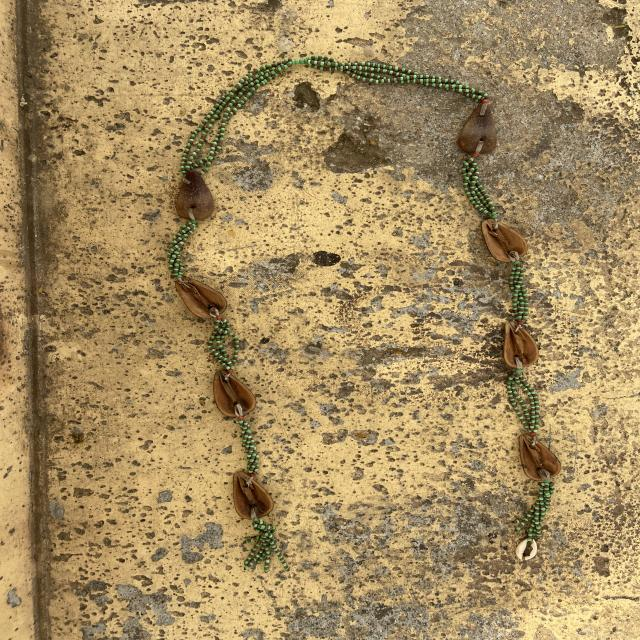facedown: (454, 93, 507, 159), (172, 164, 220, 230)
faceup: (168, 271, 240, 327), (205, 361, 262, 423), (512, 426, 568, 489), (470, 218, 539, 265), (226, 463, 279, 524), (497, 314, 544, 373)
